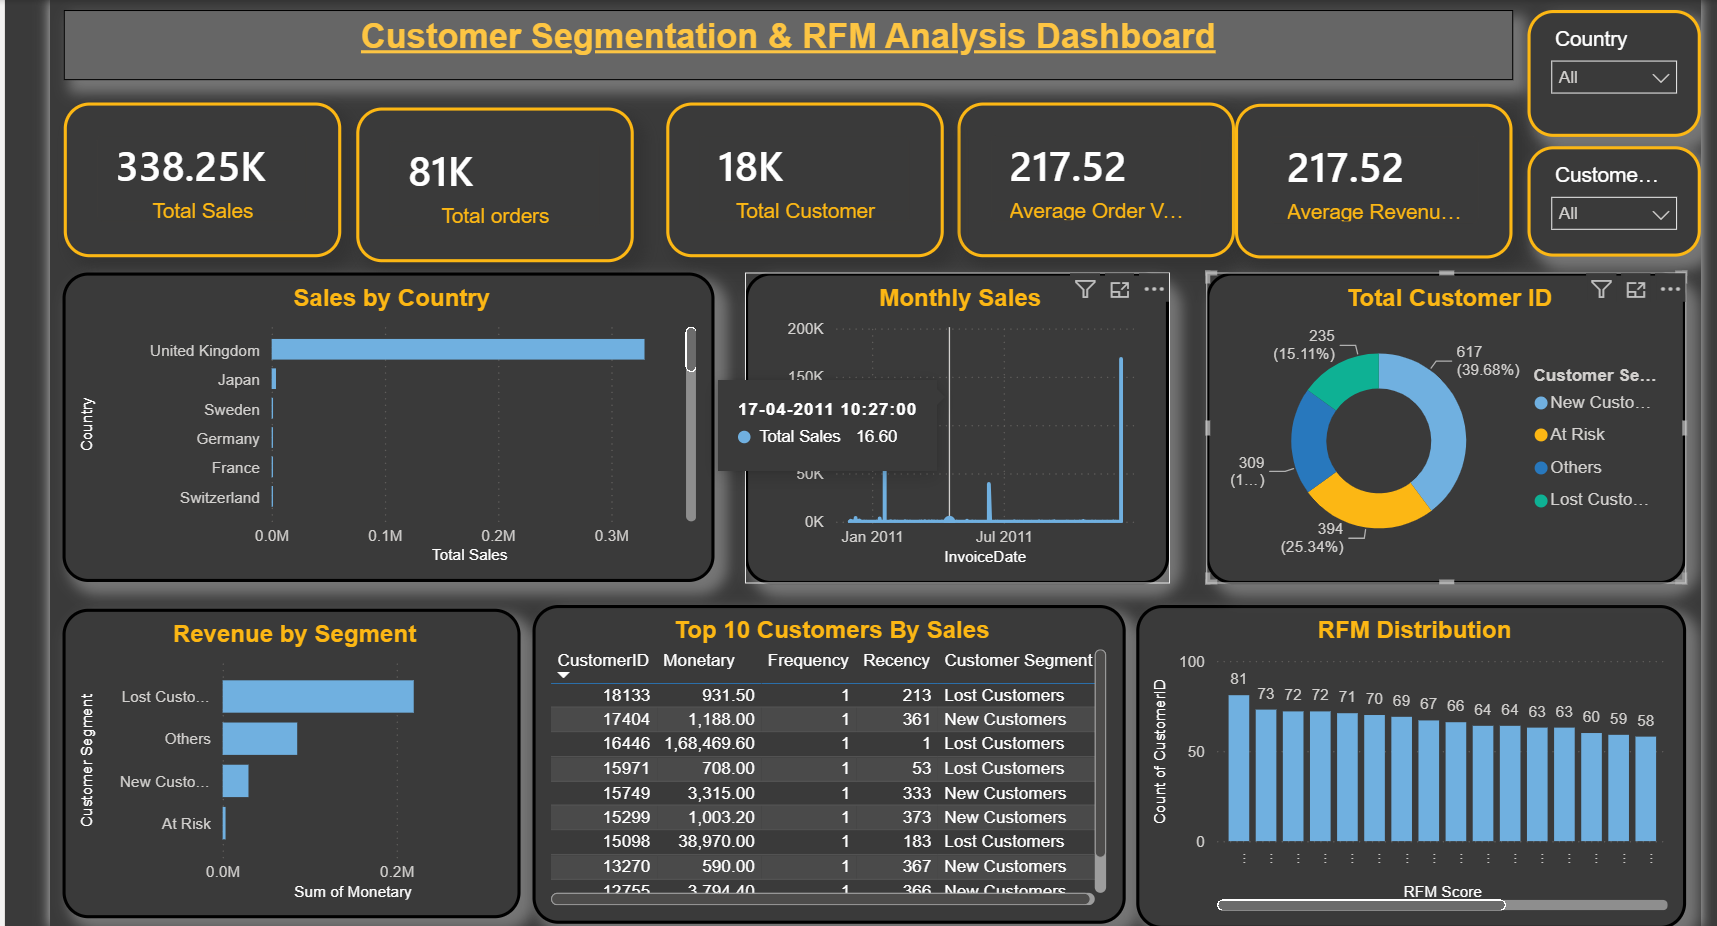

Layout of this report page (visuals, bound fields, positions):
{"tool":"powerbi","page":{"name":"Page 1","canvas":[1280,720],"ordinal":0},"visuals":[{"type":"textbox","box":[10.8,7.6,1124.1,54.2],"z":0},{"type":"cardVisual","fields":{"Data":["Calendar.Total Sales"]},"box":[10.8,79.3,215.2,119.7],"z":1},{"type":"cardVisual","fields":{"Data":["Calendar.Average Order Value"]},"box":[703.8,79.2,215.2,120],"z":2},{"type":"cardVisual","fields":{"Data":["Max(Online Retail.Quantity)"]},"box":[237.5,82.9,215.2,120],"z":3},{"type":"cardVisual","fields":{"Data":["Max(Online Retail.CustomerID)"]},"box":[477.5,79.2,215.2,120],"z":4},{"type":"cardVisual","fields":{"Data":["Calendar.Average Revenue per Customer"]},"box":[919.1,80.4,215.2,120],"z":5},{"type":"clusteredBarChart","title":" Sales by Country","fields":{"Category":["Online Retail.Country"],"Y":["Calendar.Total Sales"]},"box":[9.9,211.5,505.9,240],"z":6},{"type":"donutChart","title":"Total Customer ID","fields":{"Category":["Customer RFM.Customer Segment"],"Y":["CountNonNull(Customer RFM.CustomerID)"]},"box":[896.8,211.5,372.3,241.2],"z":7},{"type":"lineChart","title":"Monthly Sales","fields":{"Category":["Online Retail.InvoiceDate"],"Y":["Calendar.Total Sales"]},"box":[539.3,211.5,329,241.2],"z":8},{"type":"clusteredBarChart","title":"Revenue by Segment","fields":{"Category":["Customer RFM.Customer Segment"],"Y":["Sum(Customer RFM.Monetary)"]},"box":[9.9,472.5,355,240],"z":9},{"type":"tableEx","title":"Top 10 Customers By Sales","fields":{"Values":["Customer RFM.CustomerID","Customer RFM.Monetary","Customer RFM.Frequency","Customer RFM.Recency","Customer RFM.Customer Segment"]},"box":[374,469.4,459.6,247.2],"z":10},{"type":"clusteredColumnChart","title":"RFM Distribution","fields":{"Category":["Customer RFM.RFM Score"],"Y":["CountNonNull(Customer RFM.CustomerID)"]},"box":[842.4,468.8,426.8,251.1],"z":11},{"type":"slicer","fields":{"Values":["Online Retail.Country"]},"box":[1145.8,7.6,134.4,98.6],"z":12},{"type":"slicer","fields":{"Values":["Customer RFM.Customer Segment"]},"box":[1145.8,113.8,134.4,85.6],"z":13}]}

Visuals, with their boxes in screenshot pixels (x1, y1, x2, y2):
textbox: 0:10:1425:78
cardVisual - Calendar.Total Sales: 0:101:273:252
cardVisual - Calendar.Average Order Value: 879:100:1152:253
cardVisual - Max(Online Retail.Quantity): 288:105:560:257
cardVisual - Max(Online Retail.CustomerID): 592:100:865:253
cardVisual - Calendar.Average Revenue per Customer: 1152:102:1425:254
" Sales by Country" clusteredBarChart: 0:268:640:572
"Total Customer ID" donutChart: 1123:268:1595:574
"Monthly Sales" lineChart: 670:268:1087:574
"Revenue by Segment" clusteredBarChart: 0:599:449:903
"Top 10 Customers By Sales" tableEx: 461:595:1043:908
"RFM Distribution" clusteredColumnChart: 1055:594:1596:913
slicer - Online Retail.Country: 1439:10:1610:135
slicer - Customer RFM.Customer Segment: 1439:144:1610:253
